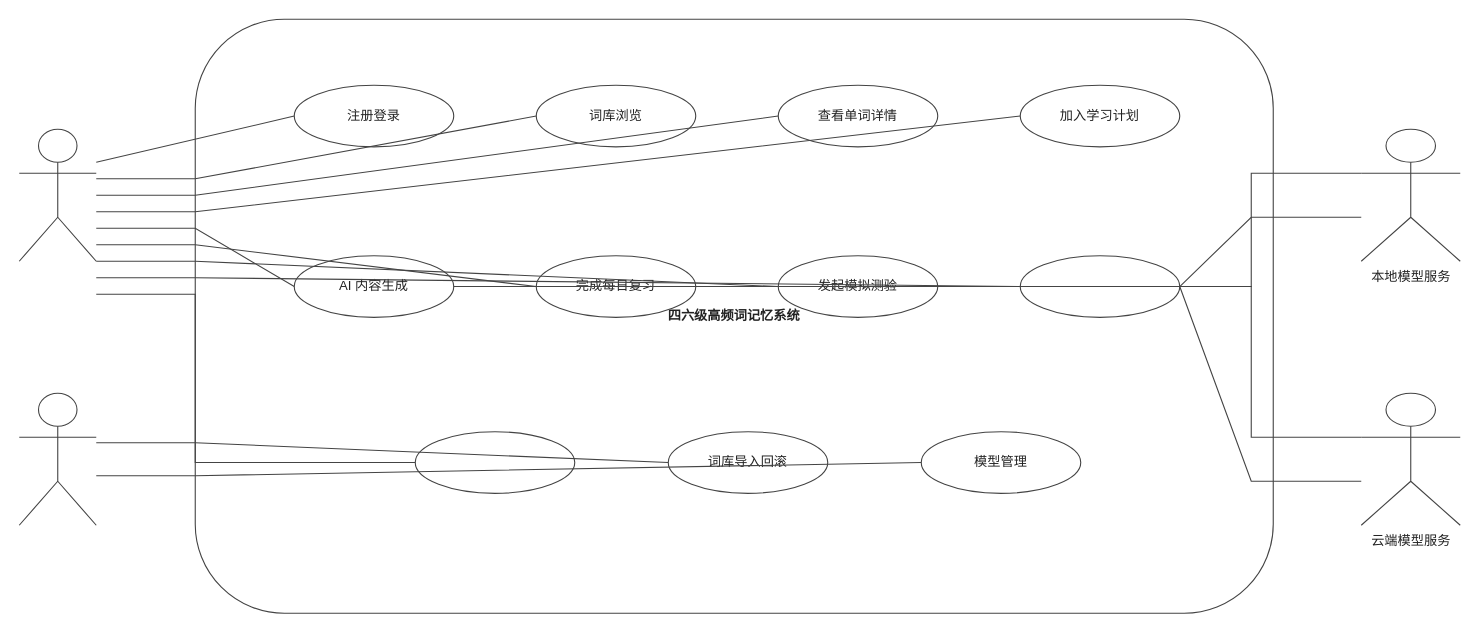
The diagram is 1480 pixels wide and 633 high, and some of its shapes have lost their labels. The centre of each missing label's shape, as x and y in pixels:
"学习助手对话" belongs at (x=1099, y=286).
"普通用户" belongs at (x=57, y=194).
"看板统计查看" belongs at (x=494, y=462).
"管理员" belongs at (x=57, y=458).
